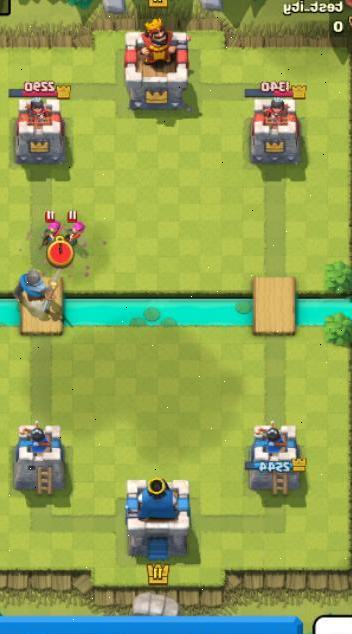enemy_archers: (61, 207, 88, 255), (37, 210, 66, 252)
player_knight: (11, 266, 62, 303)
